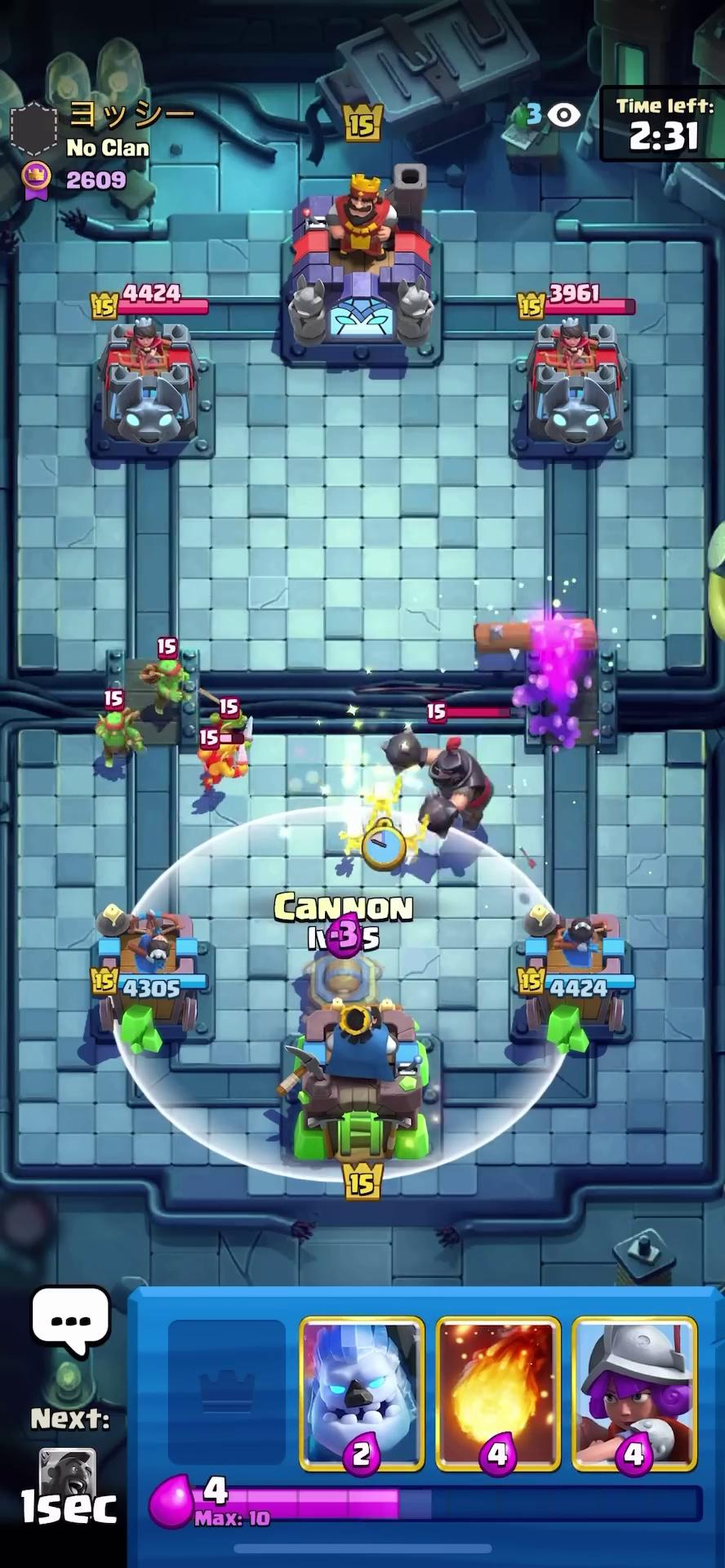skeletons: (333, 770, 427, 874)
